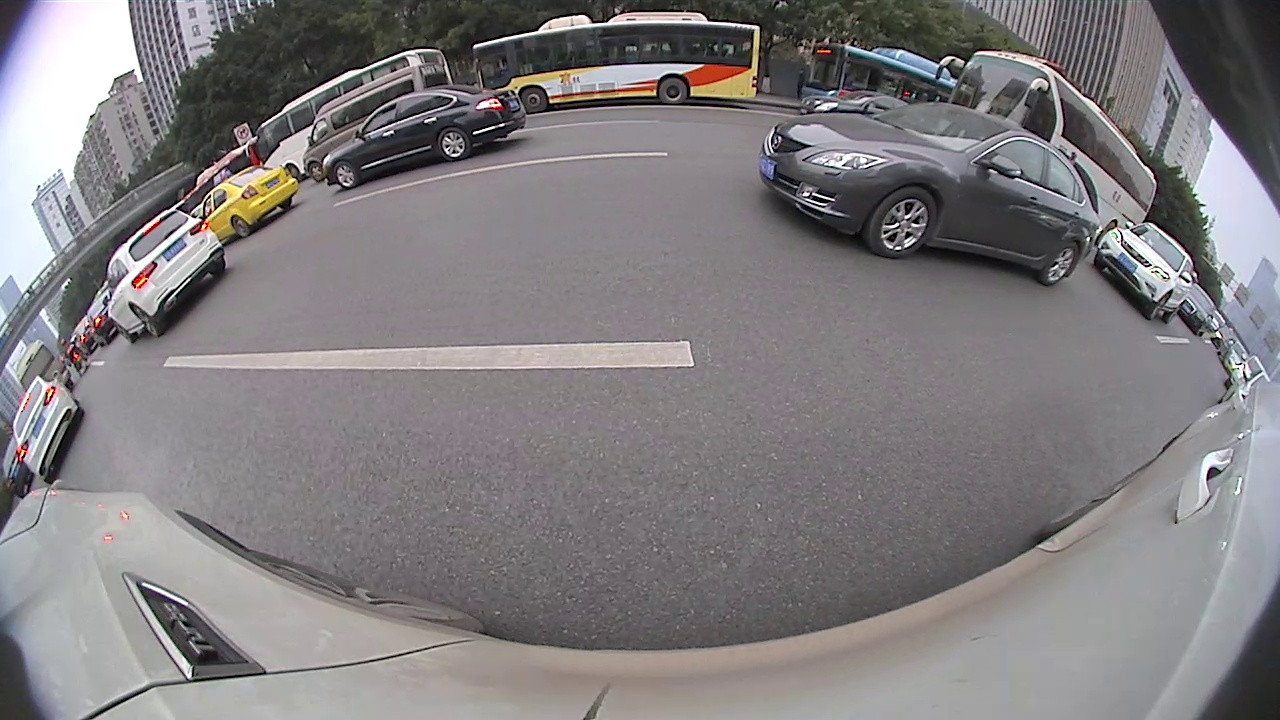bus: (934, 49, 1158, 241), (472, 11, 762, 114), (245, 45, 451, 175), (798, 41, 957, 106), (9, 336, 72, 397)
car: (759, 99, 1101, 288), (323, 83, 526, 192), (100, 206, 229, 343), (305, 62, 446, 182), (1093, 219, 1196, 325), (6, 371, 82, 482), (197, 163, 298, 241), (799, 91, 916, 121), (86, 283, 117, 345), (1180, 284, 1216, 336), (1, 434, 27, 495)
front: (867, 188, 938, 258), (1145, 291, 1171, 318), (519, 86, 546, 111), (332, 163, 358, 187), (112, 318, 136, 342), (306, 159, 322, 181)
rear: (1038, 243, 1081, 285), (128, 302, 163, 336), (439, 128, 472, 160), (658, 77, 688, 105), (1161, 302, 1184, 322), (232, 215, 249, 236)
rider: (62, 340, 89, 379)
